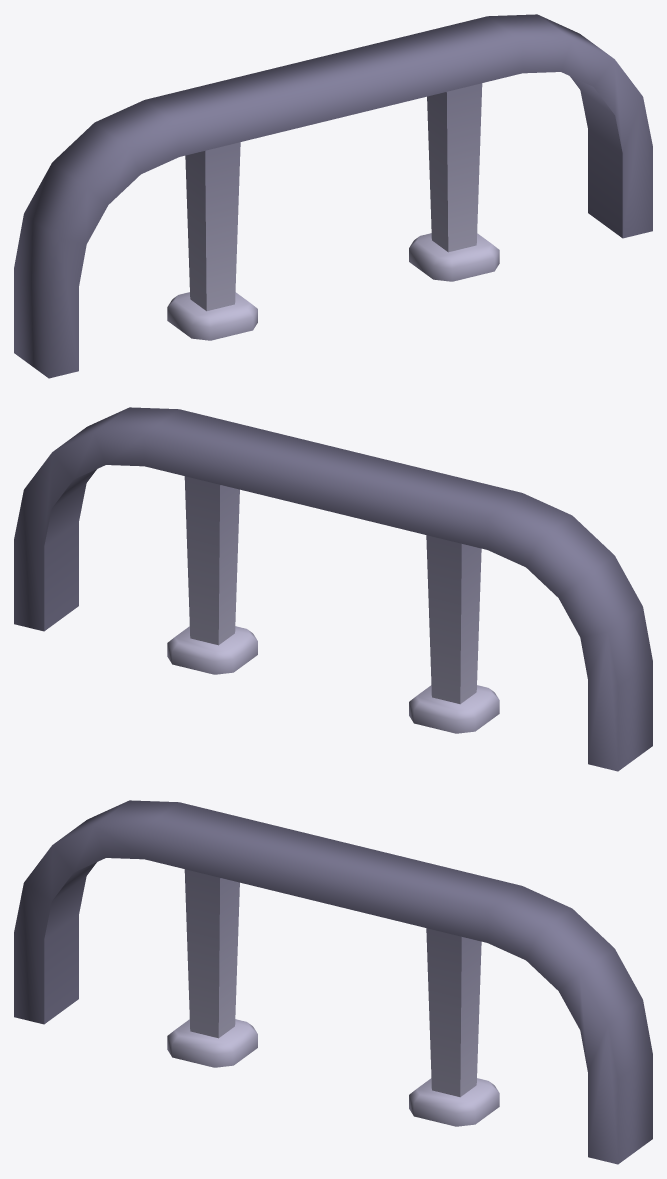
Rendered from fence.fbx.
The picture shows the model from 3 angles, top to bottom: view 1: azimuth 30°, elevation 25°; view 2: azimuth 150°, elevation 25°; view 3: azimuth 330°, elevation 25°; orthographic projection.
Parts seen in each view (by area): view 1: fence; view 2: fence; view 3: fence.
Part boxes in pixels (x1,y1,x2,y2): fence: [14, 14, 652, 378]; fence: [14, 407, 652, 771]; fence: [14, 800, 652, 1164].
Size of the model in its own units: 100 by 35 by 11.
1 material, 1 textured.
